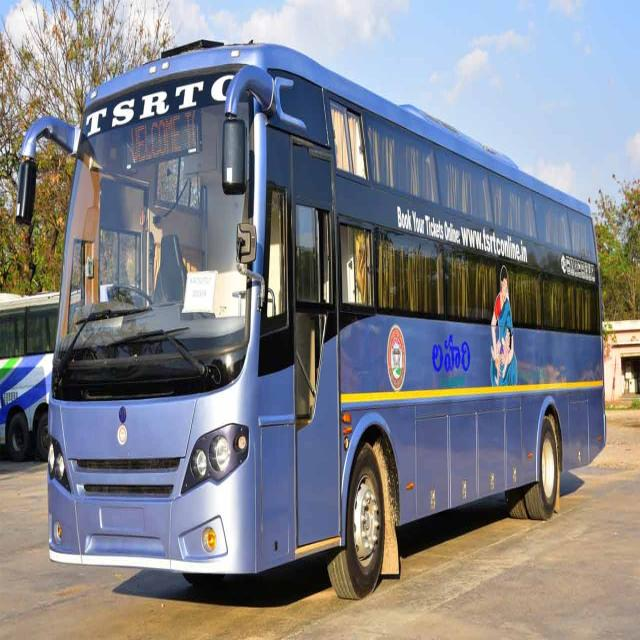bus: (18, 42, 605, 597)
